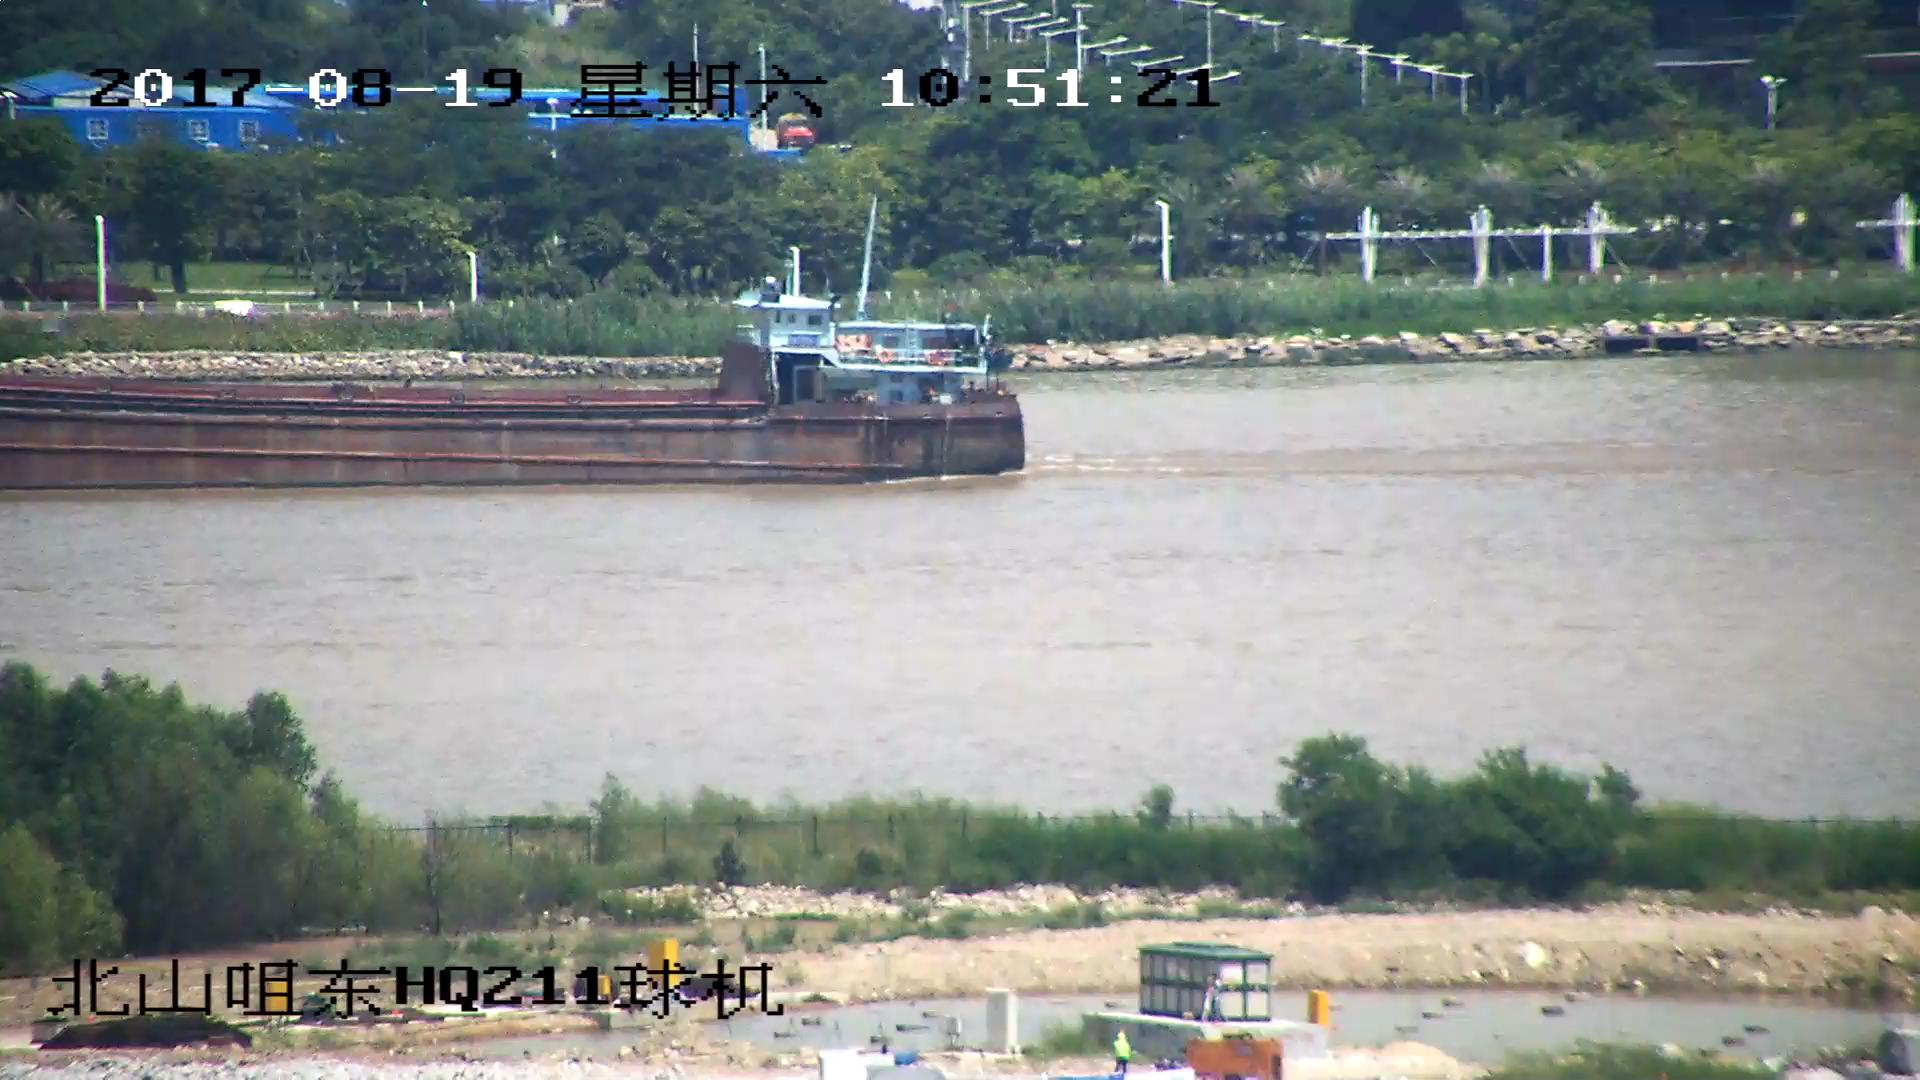bulk cargo carrier: (1, 211, 1037, 495)
